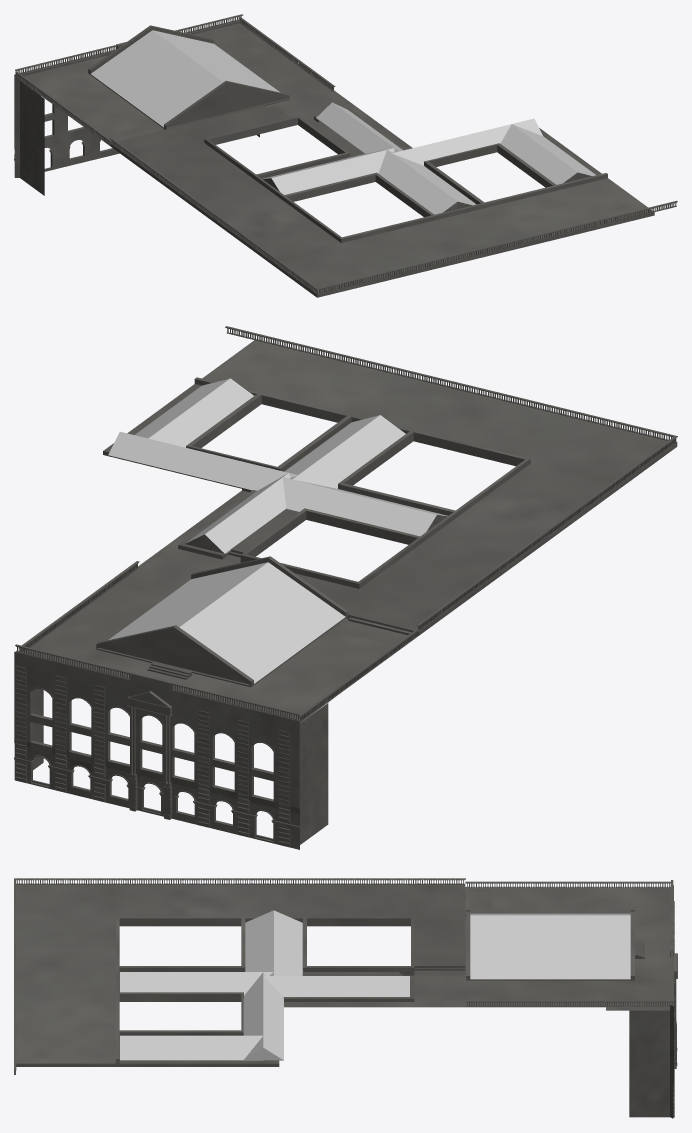
File: 26_04_2020_techoyfrente.fbx
3 views of the same model, one above another, from view 1: azimuth 30°, elevation 25°; view 2: azimuth 150°, elevation 25°; view 3: azimuth 270°, elevation 25° (orthographic). The views are drawn at different scales.
Visible parts, largest first — view 1: Plane.007, claustro.002, Cube.030, Cube.014, Cube.013, Cube.015, Cube.016; view 2: Plane.007, Cube.030, claustro.002, Cube.014, Cube.013, Cube.015, Cube.016; view 3: Plane.007, claustro.002, Cube.030, Cube.014, Cube.016, Cube.015.
Part boxes in pixels (x1=…): Plane.007: x1=15, y1=23, x2=654, y2=297; claustro.002: x1=91, y1=30, x2=595, y2=214; Cube.030: x1=14, y1=20, x2=259, y2=195; Cube.014: x1=109, y1=137, x2=677, y2=294; Cube.013: x1=15, y1=14, x2=243, y2=74; Cube.015: x1=15, y1=71, x2=111, y2=145; Cube.016: x1=238, y1=17, x2=335, y2=91; Plane.007: x1=25, y1=340, x2=677, y2=722; Cube.030: x1=14, y1=651, x2=333, y2=849; claustro.002: x1=108, y1=378, x2=447, y2=683; Cube.014: x1=225, y1=326, x2=677, y2=631; Cube.013: x1=15, y1=644, x2=300, y2=720; Cube.015: x1=299, y1=629, x2=418, y2=721; Cube.016: x1=18, y1=561, x2=139, y2=651; Plane.007: x1=16, y1=884, x2=669, y2=1066; claustro.002: x1=120, y1=910, x2=630, y2=1060; Cube.030: x1=606, y1=885, x2=677, y2=1118; Cube.014: x1=14, y1=878, x2=465, y2=1074; Cube.016: x1=465, y1=1000, x2=671, y2=1006; Cube.015: x1=465, y1=881, x2=670, y2=887.
Size of the model in its own units: 13869 by 5006 by 20257.
